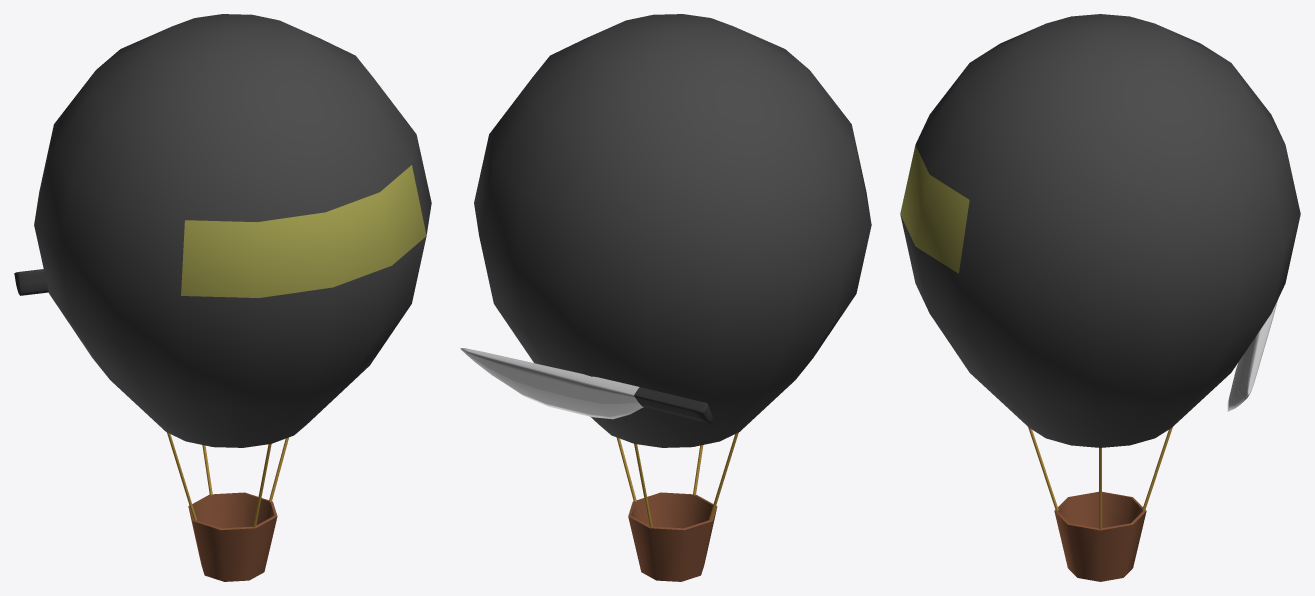
File: Lv4_FB_Thief.FBX
3 renders of one model, left to right at view 1: azimuth 30°, elevation 25°; view 2: azimuth 150°, elevation 25°; view 3: azimuth 270°, elevation 25°, orthographic.
Parts seen in each view (by area): view 1: Sphere001, Cylinder001, Line003, Box001; view 2: Sphere001, Box001, Cylinder001, Line003; view 3: Sphere001, Cylinder001, Box001, Line003.
Part boxes in pixels (x1,y1,x2,y2): Sphere001: (34,14,431,447); Cylinder001: (188,492,277,581); Line003: (167,432,288,527); Box001: (14,269,48,295); Sphere001: (474,14,871,447); Box001: (460,348,712,423); Cylinder001: (628,492,717,581); Line003: (616,432,738,527); Sphere001: (900,14,1300,447); Cylinder001: (1054,491,1146,581); Box001: (1227,300,1277,411); Line003: (1028,427,1172,529).
Bounding box in the file's own units: 130 × 192 × 130.
